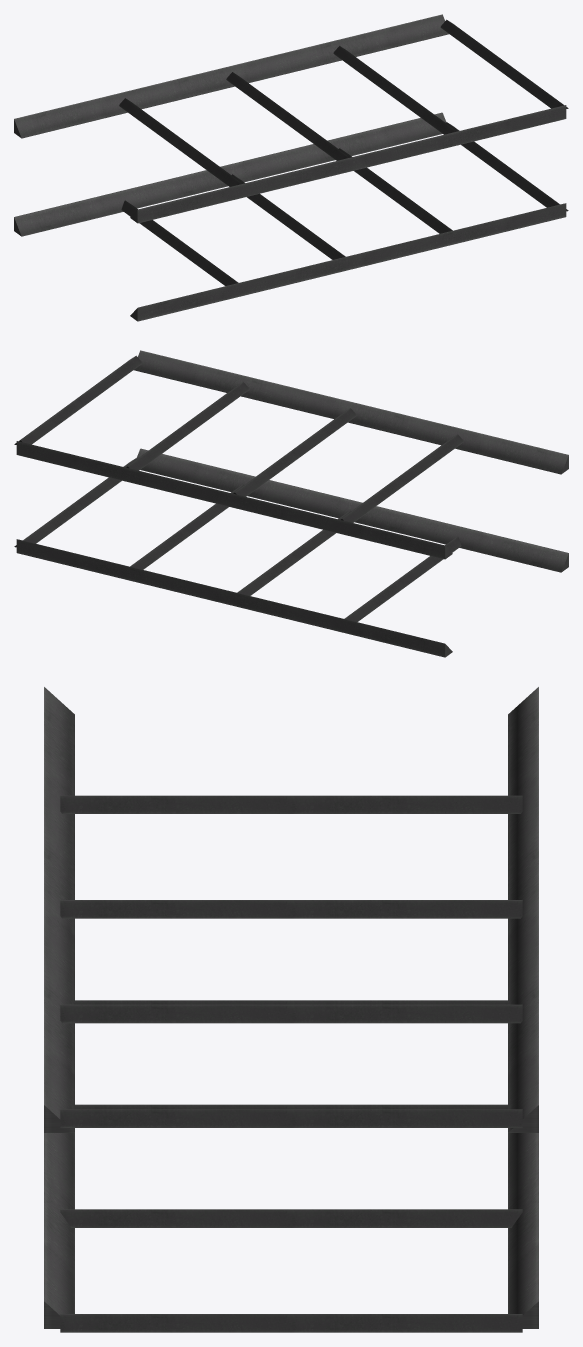
The model's file is p6_wire_trellis_64_lod1.glb.
The picture shows the model from 3 angles, top to bottom: view 1: azimuth 30°, elevation 25°; view 2: azimuth 150°, elevation 25°; view 3: azimuth 270°, elevation 25°; orthographic projection. The views are drawn at different scales.
Parts seen in each view (by area): view 1: surf0; view 2: surf0; view 3: surf0.
Part boxes in pixels (x1=…): surf0: x1=14, y1=14, x2=568, y2=321; surf0: x1=14, y1=350, x2=568, y2=657; surf0: x1=44, y1=687, x2=538, y2=1332.
Bounding box in the file's own units: 65 × 16 × 32.
